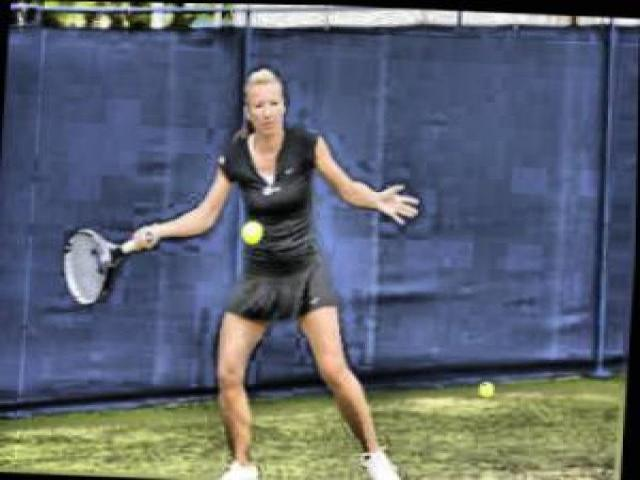tennis-ball: (242, 222, 261, 242), (480, 381, 493, 397)
